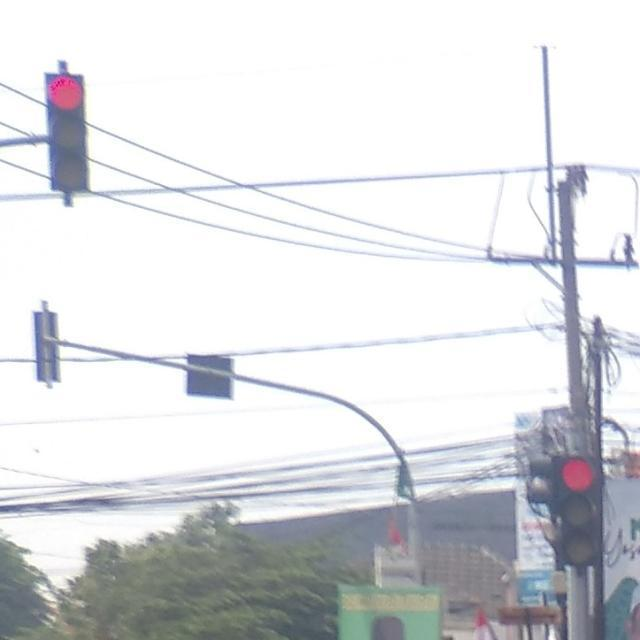red_light: (41, 68, 96, 204)
